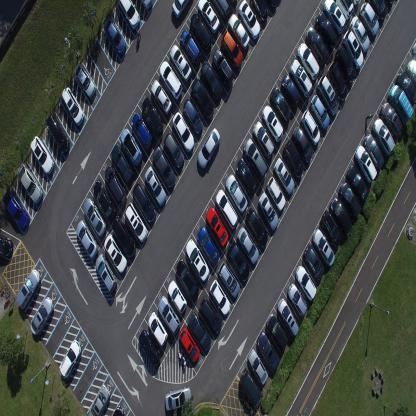car: (110, 213, 136, 258), (2, 190, 30, 231), (17, 161, 43, 204), (45, 111, 70, 155), (15, 267, 40, 311), (185, 238, 210, 282), (175, 257, 199, 302), (151, 146, 176, 189), (92, 179, 116, 223), (29, 136, 55, 176), (190, 76, 214, 119), (197, 127, 221, 170), (243, 137, 267, 180), (132, 182, 157, 223), (158, 59, 183, 100), (30, 297, 54, 339), (124, 201, 148, 243), (199, 60, 223, 102), (187, 311, 212, 351), (257, 330, 280, 373), (60, 86, 84, 127), (238, 0, 262, 41), (277, 296, 299, 340), (206, 205, 229, 247), (110, 142, 133, 184), (211, 48, 235, 88), (389, 84, 413, 124), (58, 340, 83, 378), (227, 240, 250, 281), (196, 225, 219, 266), (225, 173, 248, 214), (120, 126, 142, 168), (76, 218, 98, 260), (317, 74, 339, 116), (172, 110, 195, 150), (144, 166, 167, 206), (104, 15, 127, 55), (104, 233, 127, 273), (157, 295, 180, 335), (169, 42, 192, 82), (312, 228, 335, 268), (239, 368, 263, 406), (141, 95, 163, 136), (104, 164, 126, 205), (84, 196, 106, 237), (95, 253, 117, 294), (216, 188, 238, 229), (306, 25, 328, 66), (246, 206, 268, 247), (373, 117, 396, 156), (258, 190, 279, 232), (327, 61, 348, 103), (190, 12, 212, 52), (262, 103, 284, 143), (236, 226, 259, 264), (217, 260, 240, 298), (199, 296, 222, 334), (138, 328, 161, 366), (220, 30, 243, 68), (235, 156, 258, 194), (329, 197, 352, 235), (253, 120, 274, 161), (283, 137, 304, 178), (342, 28, 363, 69), (290, 58, 312, 97), (346, 164, 368, 203), (355, 144, 377, 183), (316, 10, 337, 50), (335, 44, 356, 84), (182, 97, 204, 135), (162, 131, 184, 169), (180, 29, 202, 67), (228, 13, 250, 51), (270, 86, 292, 124), (297, 42, 319, 80), (295, 264, 317, 302), (339, 181, 361, 219), (131, 111, 152, 150), (320, 208, 341, 247), (381, 100, 402, 139), (322, 0, 346, 34), (150, 78, 172, 115), (209, 279, 231, 316), (273, 157, 295, 194), (266, 312, 288, 349), (350, 14, 370, 54), (363, 133, 384, 171), (74, 63, 96, 99), (178, 326, 200, 362), (197, 0, 220, 34), (247, 349, 268, 386), (292, 125, 312, 163), (300, 108, 320, 146), (310, 93, 330, 131), (359, 0, 379, 38), (287, 282, 308, 318), (280, 74, 300, 111), (266, 175, 286, 212), (304, 244, 324, 281), (87, 383, 110, 415), (167, 279, 188, 314), (164, 385, 192, 411), (117, 0, 141, 30), (147, 312, 168, 346), (396, 70, 416, 104), (368, 0, 389, 22), (249, 0, 268, 23), (211, 0, 230, 20), (334, 0, 353, 20), (172, 0, 190, 19), (0, 234, 14, 257), (406, 57, 416, 86), (264, 0, 280, 10), (139, 0, 153, 11), (111, 405, 125, 415), (411, 40, 416, 59), (385, 0, 395, 8), (351, 0, 361, 7)
